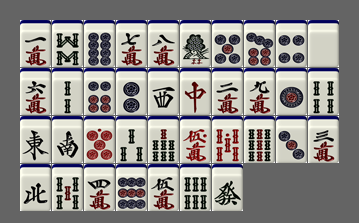0m: (180, 116, 211, 163)
0p: (84, 116, 115, 163)
0s: (212, 116, 243, 163)
1m: (20, 20, 51, 67)
1p: (276, 68, 307, 115)
1s: (180, 20, 211, 67)
1z: (20, 116, 51, 163)
2m: (212, 68, 243, 115)
2p: (116, 68, 147, 115)
2s: (52, 68, 83, 115)
2z: (52, 116, 83, 163)
3m: (308, 116, 339, 163)
3p: (276, 116, 307, 163)
3s: (116, 116, 147, 163)
3z: (148, 68, 179, 115)
4m: (84, 164, 115, 211)
4p: (276, 20, 307, 67)
4s: (308, 68, 339, 115)
4z: (20, 164, 51, 211)
5m: (148, 164, 179, 211)
5p: (212, 20, 243, 67)
5s: (52, 164, 83, 211)
5z: (308, 20, 339, 67)
6m: (20, 68, 51, 115)
6p: (84, 68, 115, 115)
6s: (180, 164, 211, 211)
6z: (212, 164, 243, 211)
7m: (116, 20, 147, 67)
7p: (244, 20, 275, 67)
7s: (148, 116, 179, 163)
7z: (180, 68, 211, 115)
8m: (148, 20, 179, 67)
8p: (84, 20, 115, 67)
8s: (52, 20, 83, 67)
9m: (244, 68, 275, 115)
9p: (116, 164, 147, 211)
9s: (244, 116, 275, 163)
